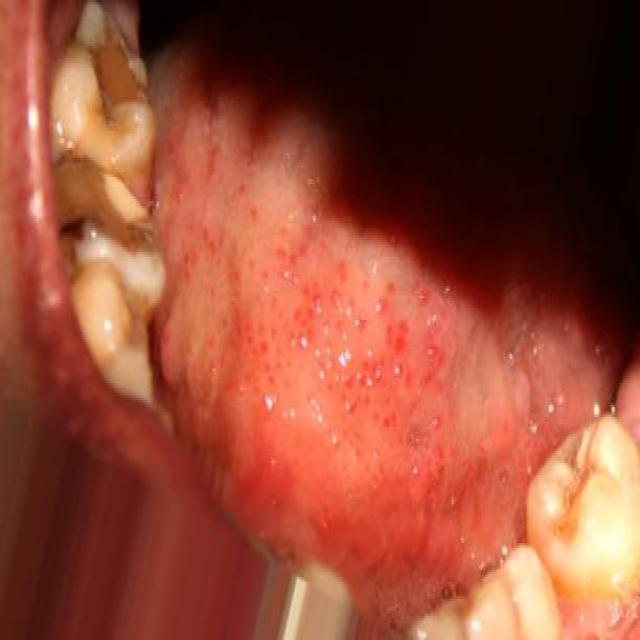caries: (58, 146, 165, 339), (53, 0, 150, 171)
